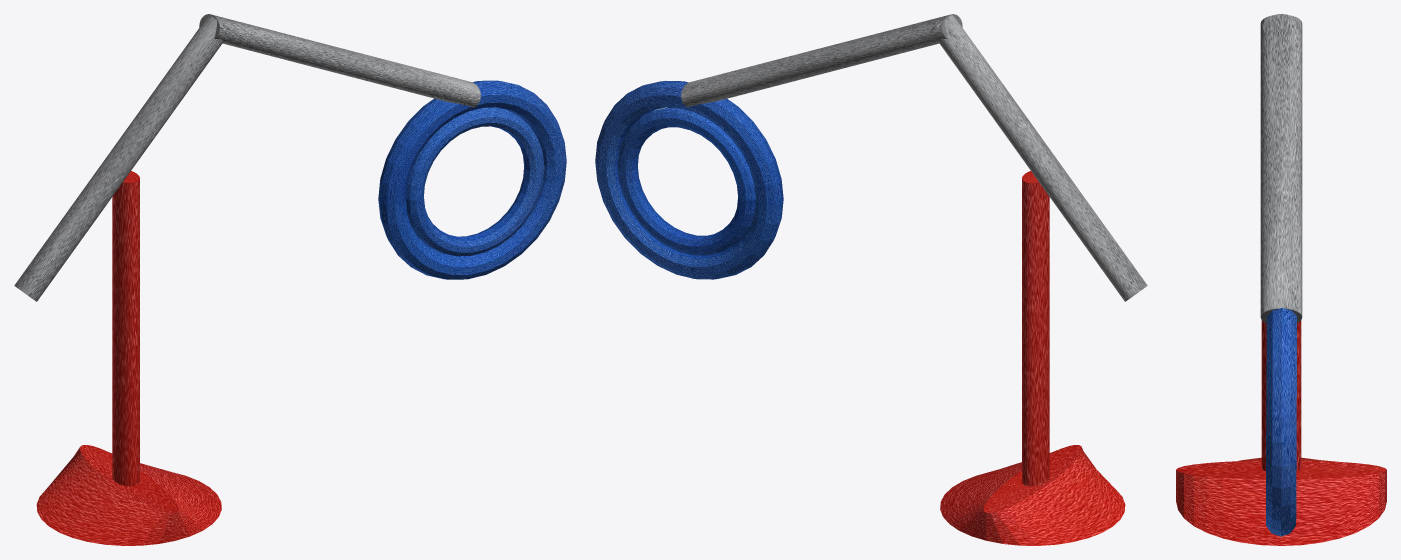
Rendered from lupa.fbx.
3 renders of one model, left to right at view 1: azimuth 30°, elevation 25°; view 2: azimuth 150°, elevation 25°; view 3: azimuth 270°, elevation 25°, orthographic. The views are drawn at different scales.
Visible parts, largest first — view 1: Rosca, Cilindro, Cilindro.002, Cilindro.001, Rosca.001, Cilindro.003; view 2: Rosca, Cilindro, Cilindro.002, Cilindro.001, Rosca.001, Cilindro.003; view 3: Cilindro, Cilindro.003, Rosca, Cilindro.001.
Boxes of the visible parts, bbox=[...] form: Rosca: bbox=[378, 80, 566, 279]; Cilindro: bbox=[36, 445, 221, 545]; Cilindro.002: bbox=[14, 14, 230, 301]; Cilindro.001: bbox=[112, 171, 139, 486]; Rosca.001: bbox=[406, 107, 544, 256]; Cilindro.003: bbox=[199, 14, 480, 107]; Rosca: bbox=[595, 80, 783, 279]; Cilindro: bbox=[940, 445, 1125, 545]; Cilindro.002: bbox=[931, 14, 1147, 301]; Cilindro.001: bbox=[1022, 171, 1049, 486]; Rosca.001: bbox=[617, 107, 755, 255]; Cilindro.003: bbox=[681, 14, 962, 107]; Cilindro: bbox=[1176, 457, 1386, 545]; Cilindro.003: bbox=[1260, 14, 1302, 323]; Rosca: bbox=[1266, 307, 1296, 536]; Cilindro.001: bbox=[1261, 320, 1301, 471].
Bounding box in the file's own units: 681 × 559 × 200.
Materials: 6 (6 with a texture image).
